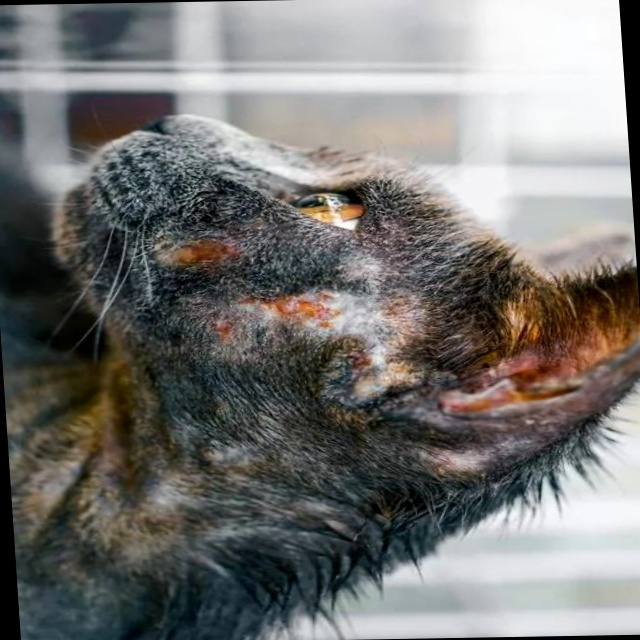ringworm: (249, 285, 383, 332), (341, 342, 397, 405), (179, 240, 242, 273), (214, 315, 244, 344)
